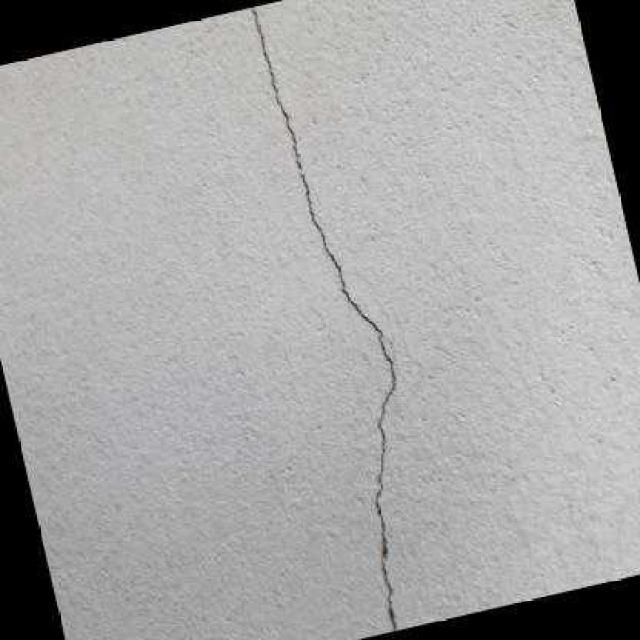D00: (252, 6, 397, 631)
